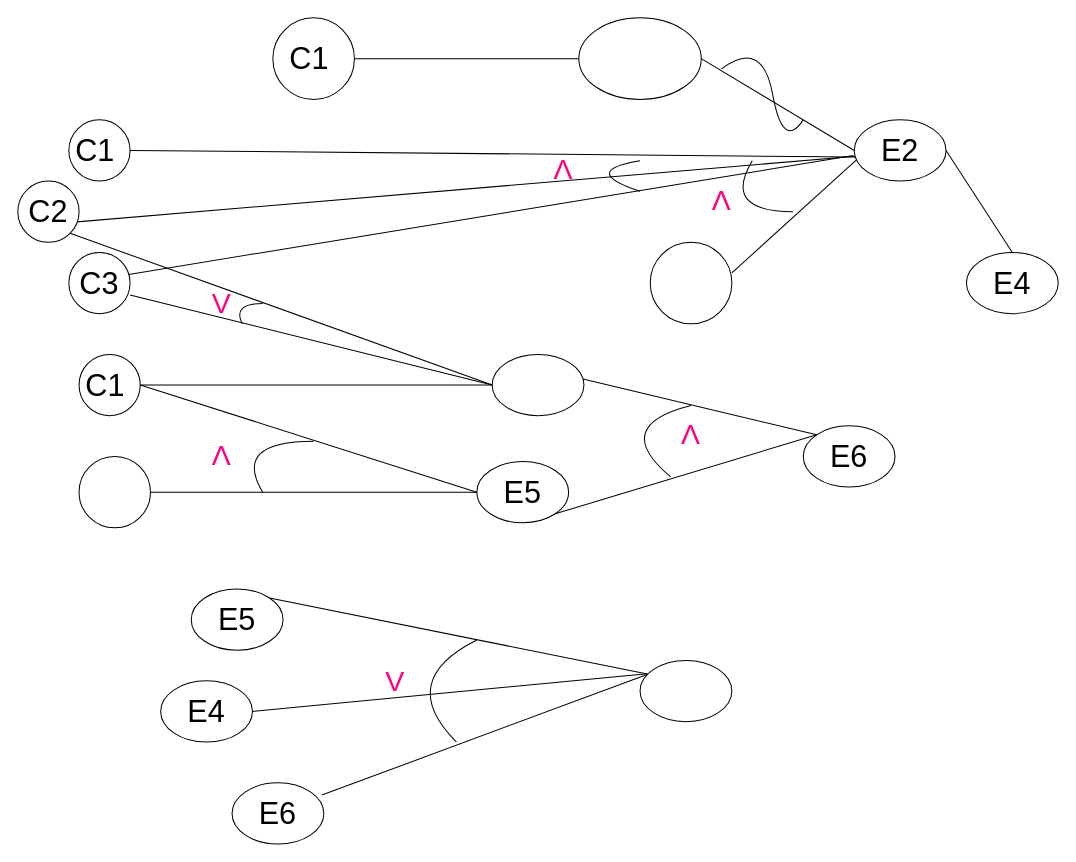
This 1076x862 diagram has some shape labels left out. Here are the shapes that lost their labels. From the top down, the centre of each, then its label:
At (x=639, y=58): "E1".
At (x=690, y=282): "C4".
At (x=537, y=384): "E3".
At (x=114, y=491): "C5".
At (x=685, y=690): "E7".
